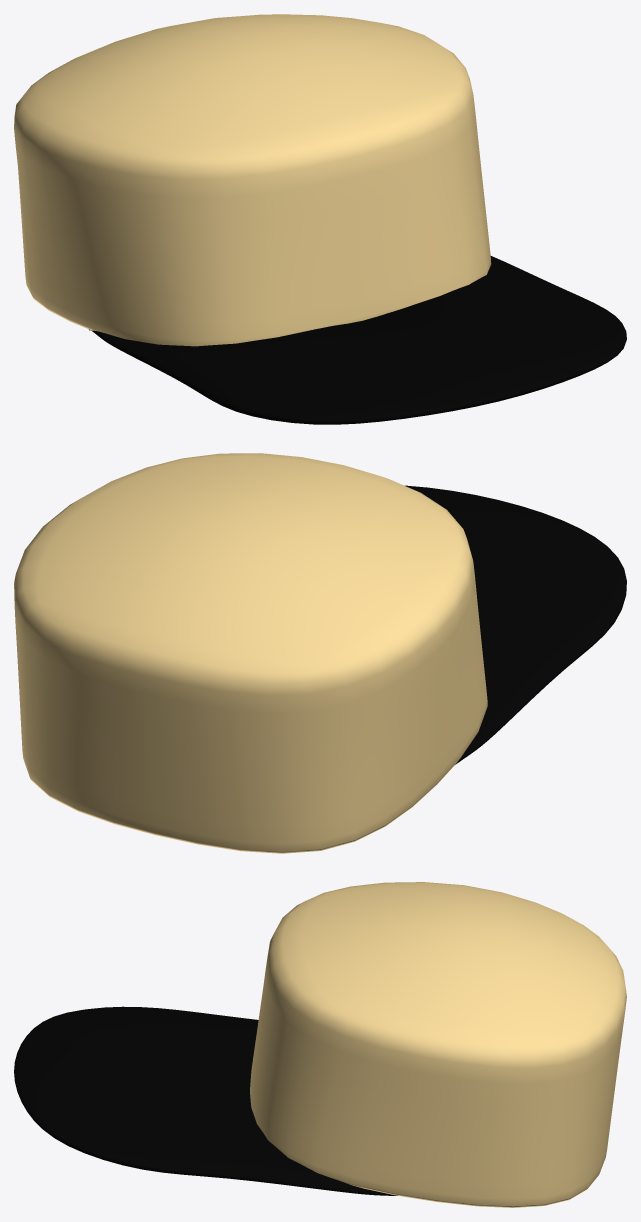
File: Hat.fbx
3 renders of one model, top to bottom at view 1: azimuth 30°, elevation 25°; view 2: azimuth 150°, elevation 25°; view 3: azimuth 270°, elevation 25°, orthographic. The views are drawn at different scales.
Parts seen in each view (by area): view 1: Janitor Hat; view 2: Janitor Hat; view 3: Janitor Hat.
Boxes of the visible parts, box(x1,y1,x2,y2) form: Janitor Hat: box(14, 14, 626, 424); Janitor Hat: box(14, 453, 626, 853); Janitor Hat: box(14, 882, 626, 1207).
Size of the model in its own units: 69.23 by 42.04 by 108.
